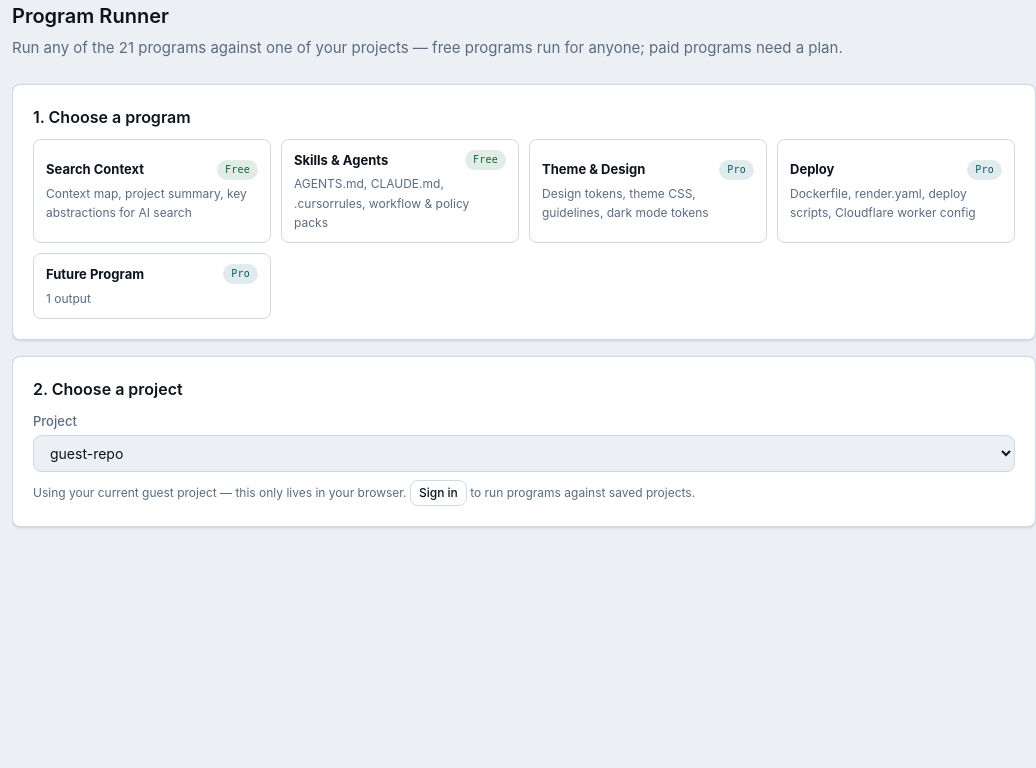
Test case: RunnerPage — running a program (free + honest staged status + results) › a catalog program not (yet) in PROGRAM_DEFS shows an honest reason instead of a silently-disabled Run button
Expected: the text "Future Program" is shown, [46, 264, 144, 285]
What coordinates should you click on to do the following:
click the button "Future Program Pro 1 output"
I would click on:
 (152, 286)
Its box is [33, 253, 271, 319].
(page scrolled)
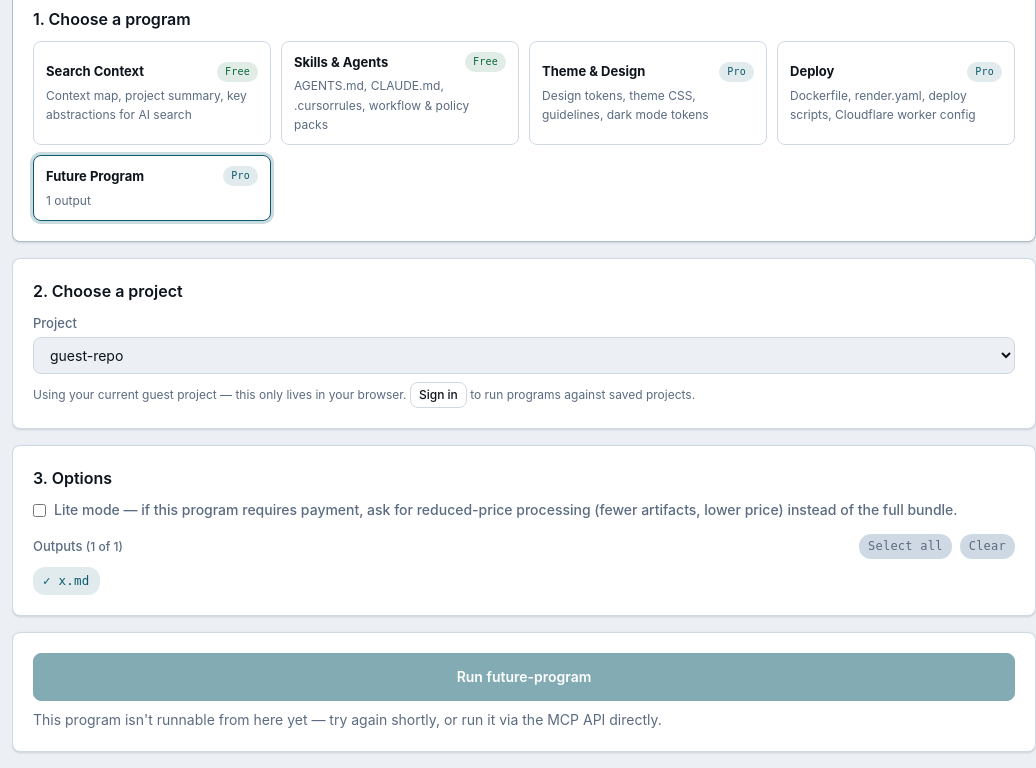
Expected: the button "Run future-program" is disabled, [33, 653, 1015, 701]
Expected: the text "isn't runnable from here yet" is shown, [33, 711, 662, 728]
